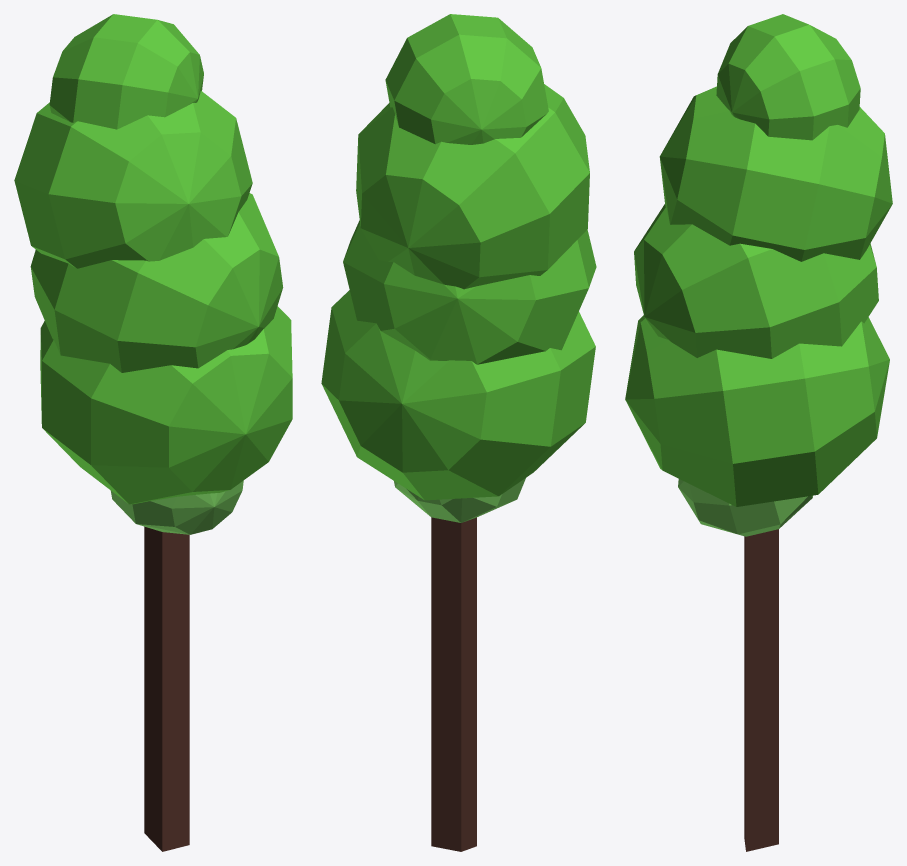
File: tree_1_world_ap_0_lev1.glb
3 views of the same model, side by side, from view 1: azimuth 30°, elevation 25°; view 2: azimuth 150°, elevation 25°; view 3: azimuth 270°, elevation 25° (orthographic). The views are drawn at different scales.
Parts seen in each view (by area): view 1: tree_1_world_ap_0_lev1; view 2: tree_1_world_ap_0_lev1; view 3: tree_1_world_ap_0_lev1.
Part boxes in pixels (x1,y1,x2,y2): tree_1_world_ap_0_lev1: (14, 14, 292, 851); tree_1_world_ap_0_lev1: (321, 14, 596, 851); tree_1_world_ap_0_lev1: (625, 14, 892, 851).
Bounding box in the file's own units: 0.4826 × 1.61 × 0.4835.
1 material, 1 textured.
